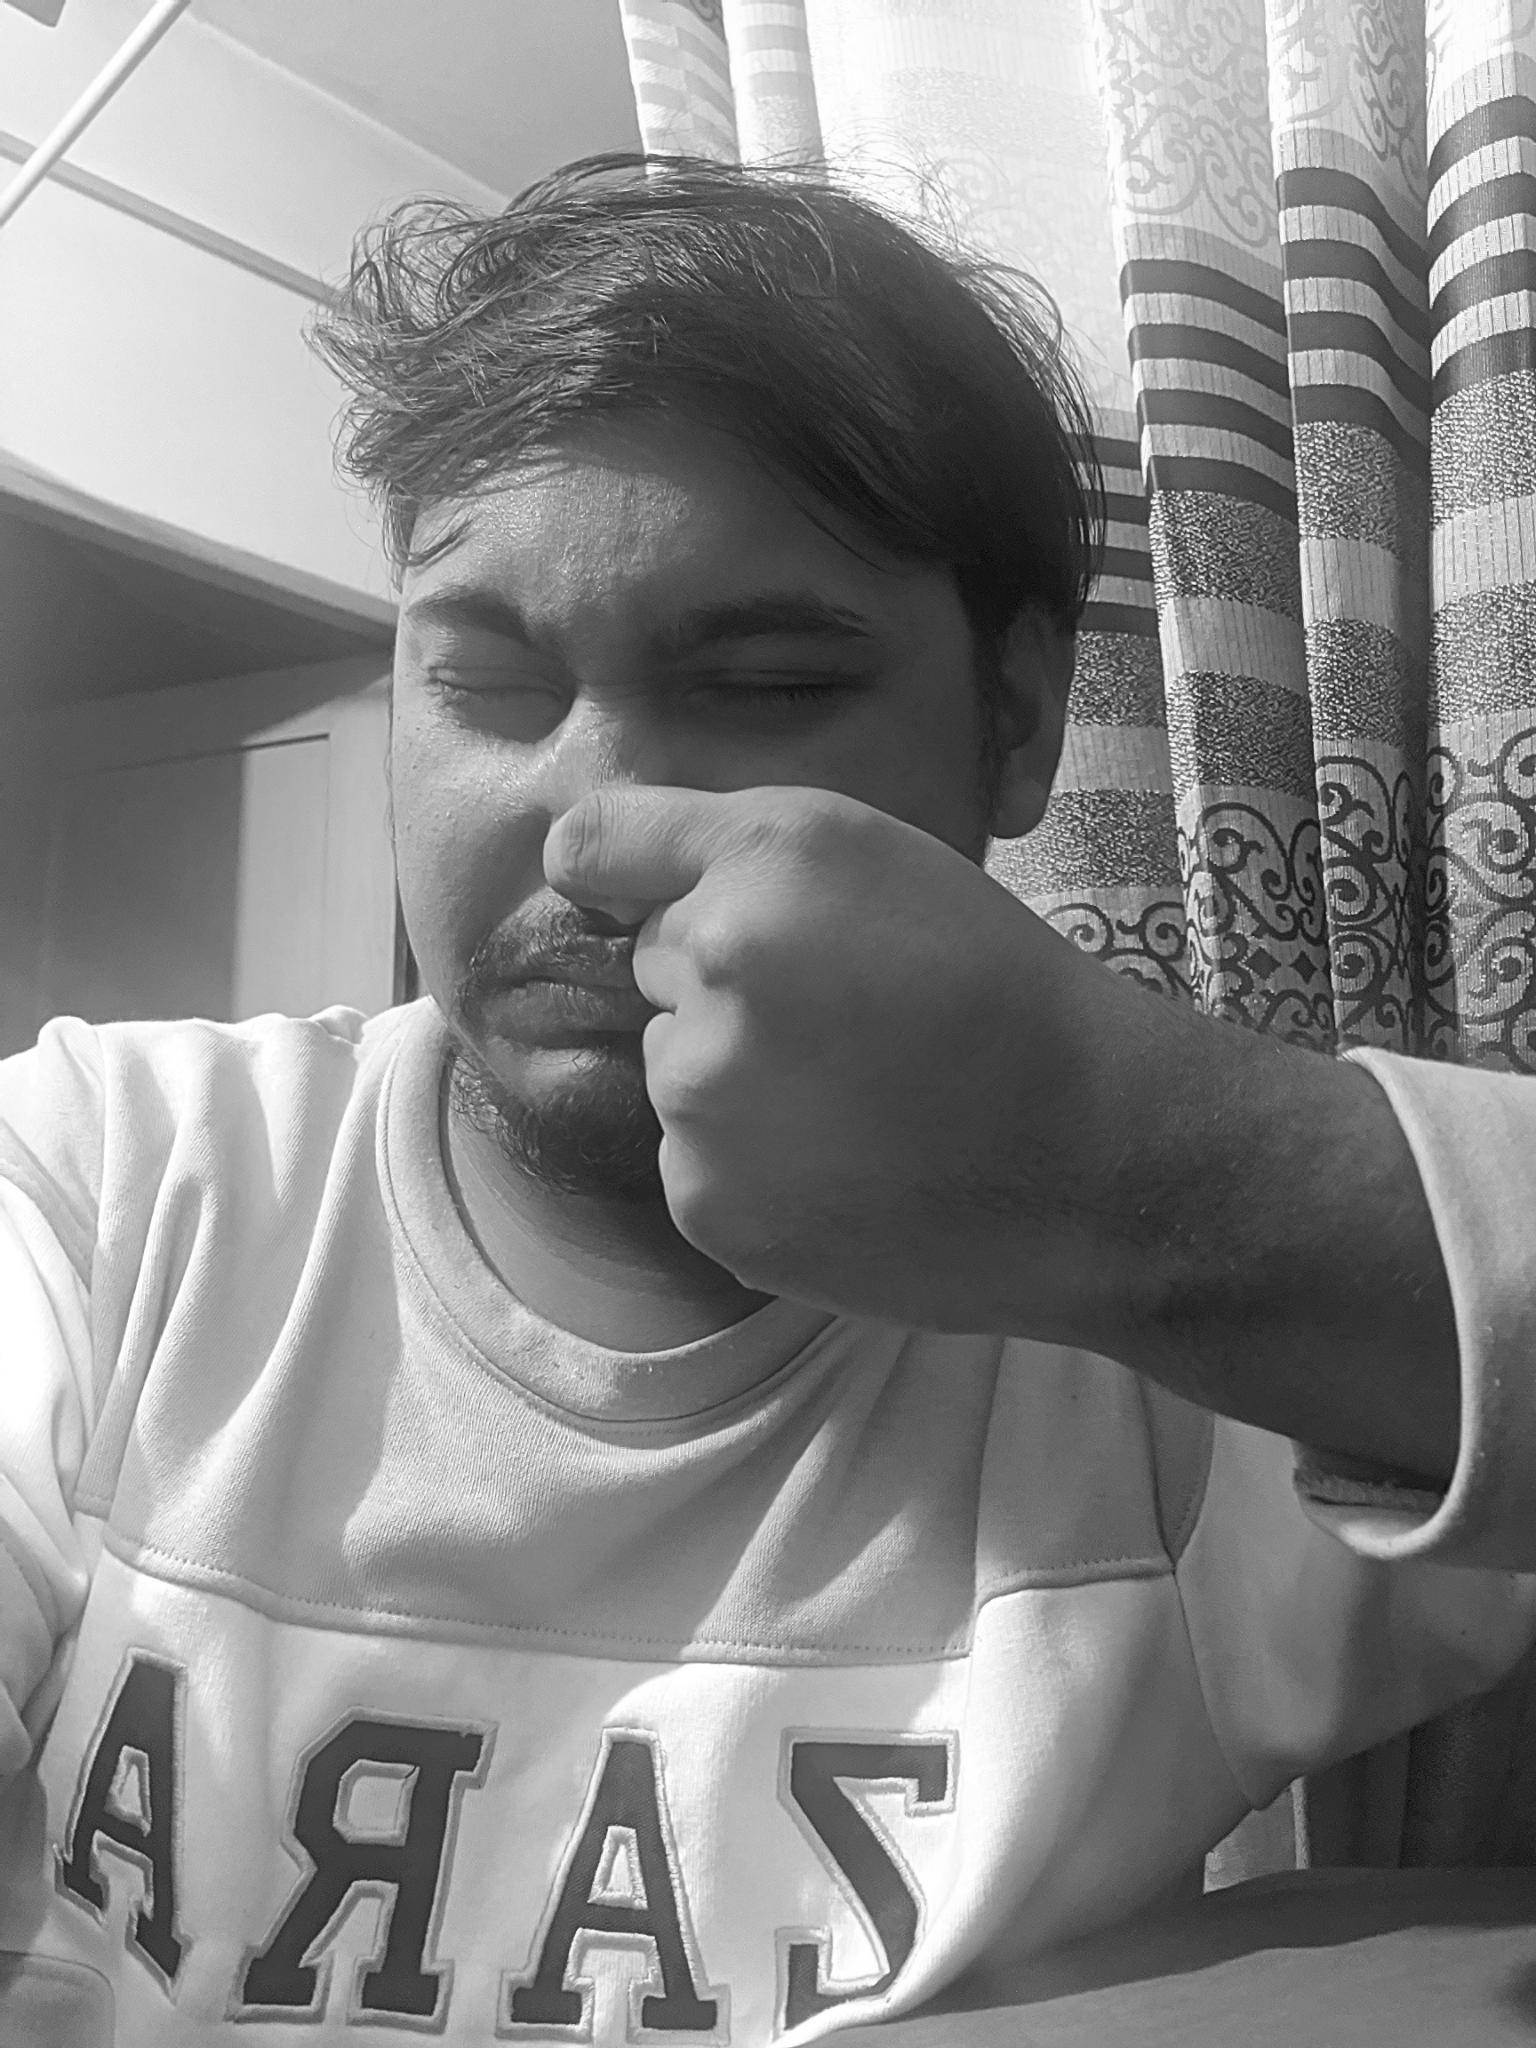Disgust: (313, 508, 973, 1232)
